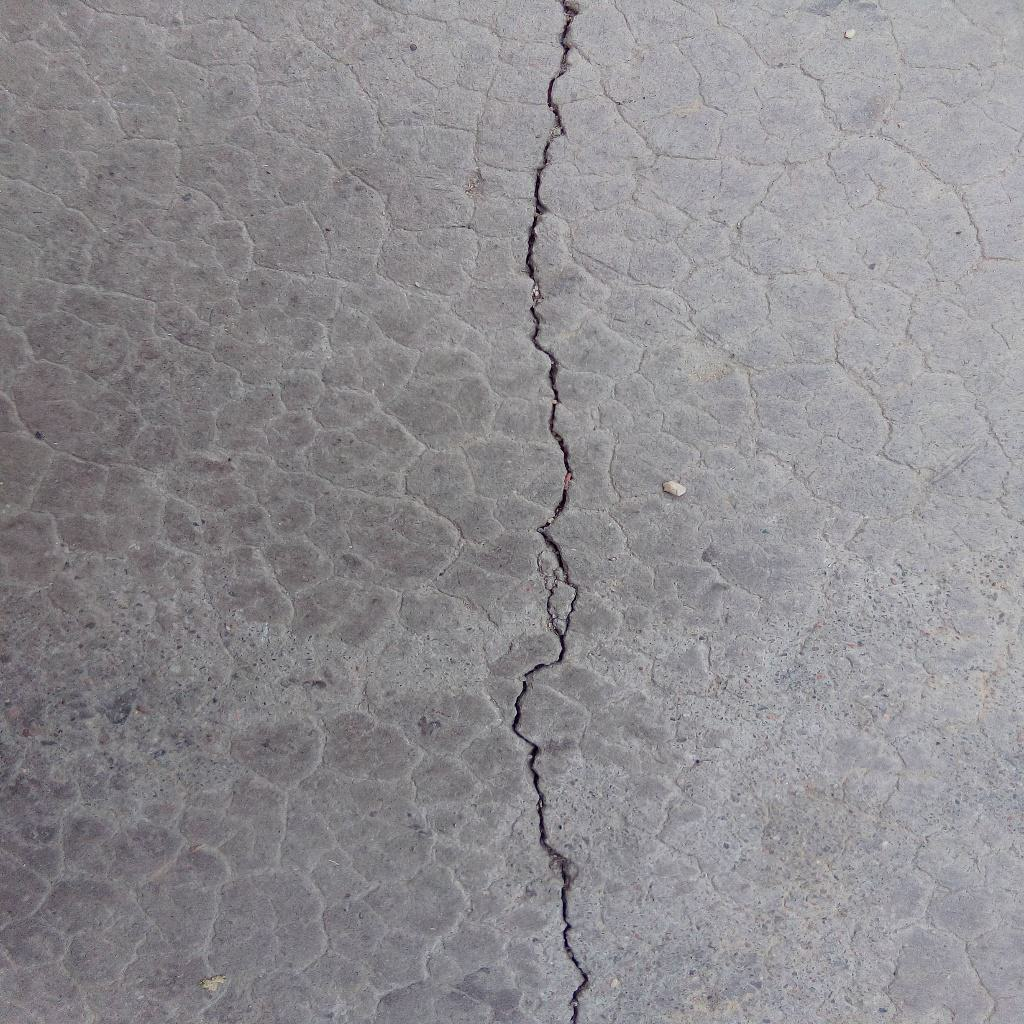Crack: (509, 1, 592, 1024)
